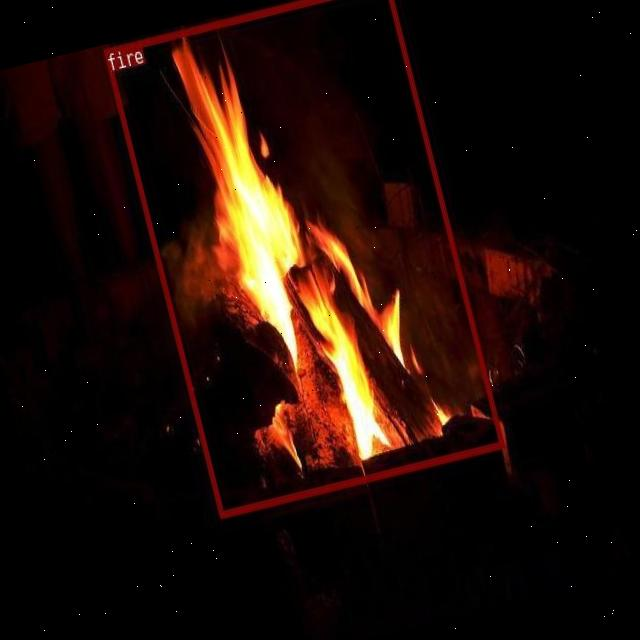fire: (103, 0, 503, 516)
